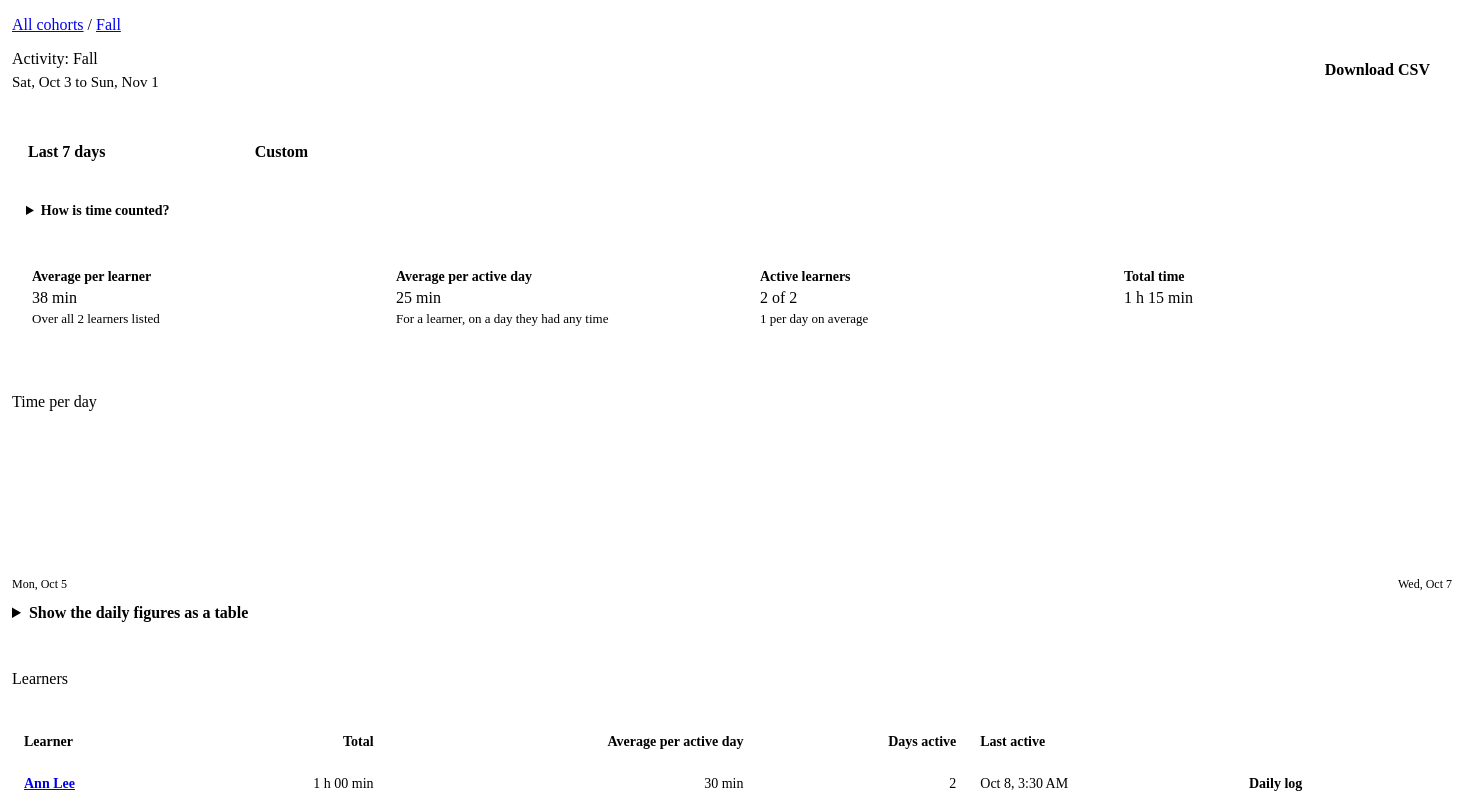
Test: ActivityPage › explains how time is counted in paragraphs and bullets, and downloads the CSV with the timezone
Expected: the text with class "dash-sub" reads "Sat, Oct 3 to Sun, Nov 1", [12,74,159,90]
Click the button "Download CSV" at (1377, 70), box [1303,50,1452,90]
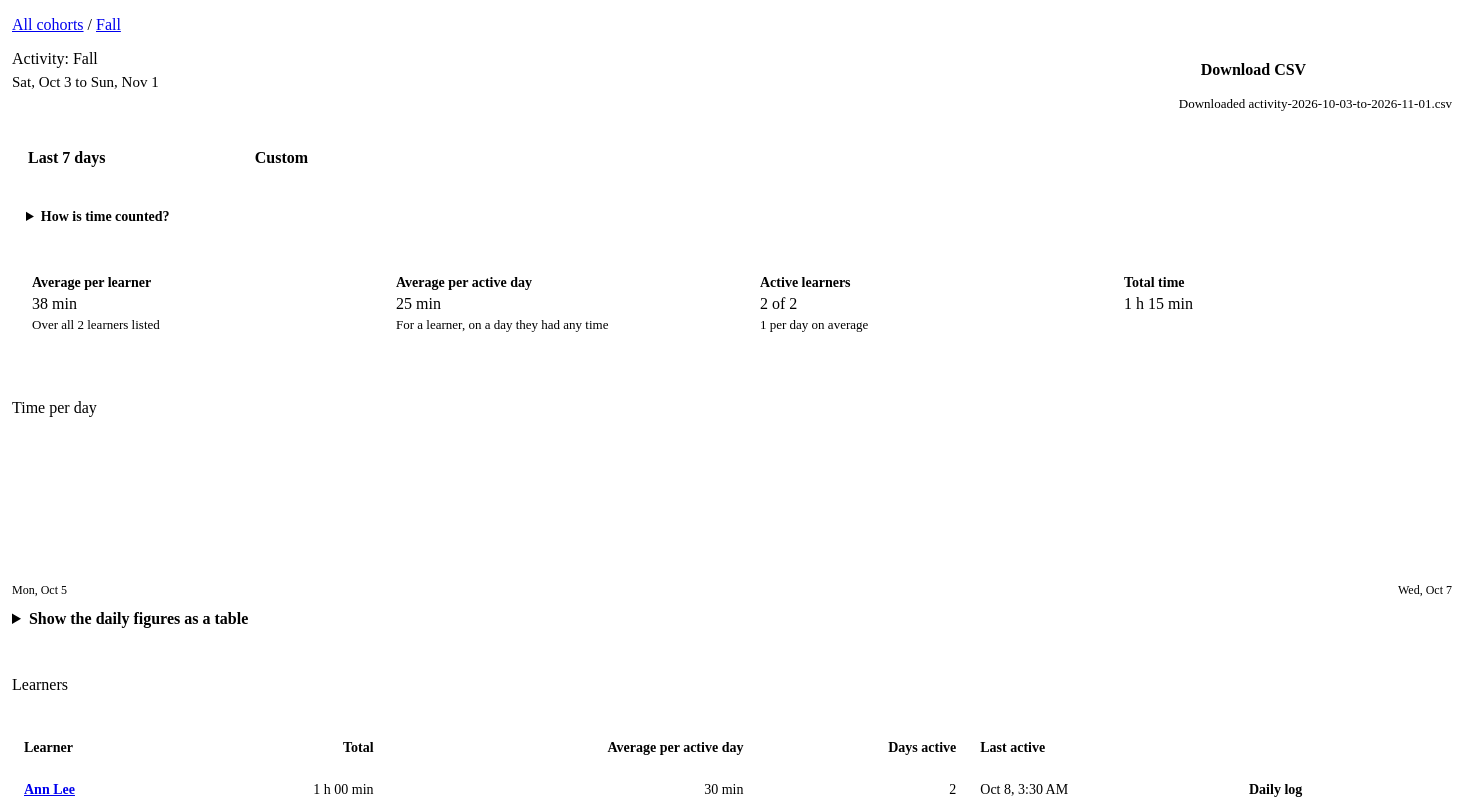
Result: the message reads "Downloaded activity-2026-10-03-to-2026-11-01.csv" at [1179,96,1452,111]
